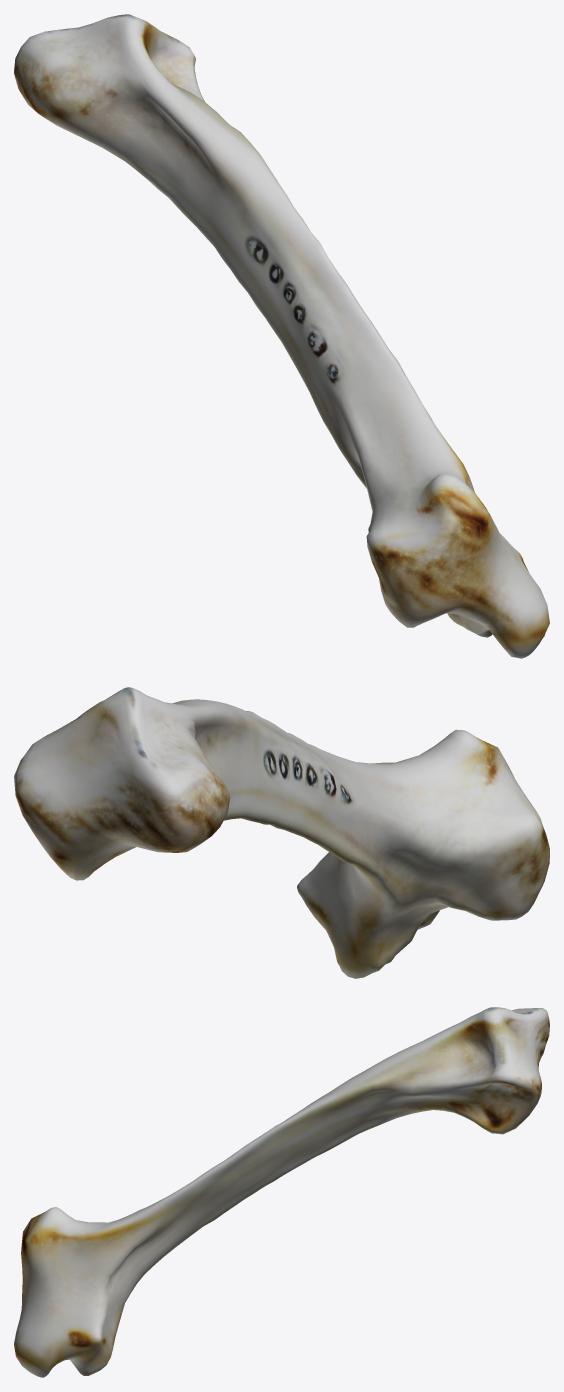
File: 224c3268802c_bone_min.fbx
3 renders of one model, top to bottom at view 1: azimuth 30°, elevation 25°; view 2: azimuth 150°, elevation 25°; view 3: azimuth 270°, elevation 25°, orthographic. The views are drawn at different scales.
Visible parts, largest first — view 1: mesh; view 2: mesh; view 3: mesh.
Part boxes in pixels (x1,y1,x2,y2): mesh: (14, 14, 549, 658); mesh: (14, 687, 549, 978); mesh: (14, 1007, 549, 1377).
Size of the model in its own units: 34.45 by 69 by 99.94.
